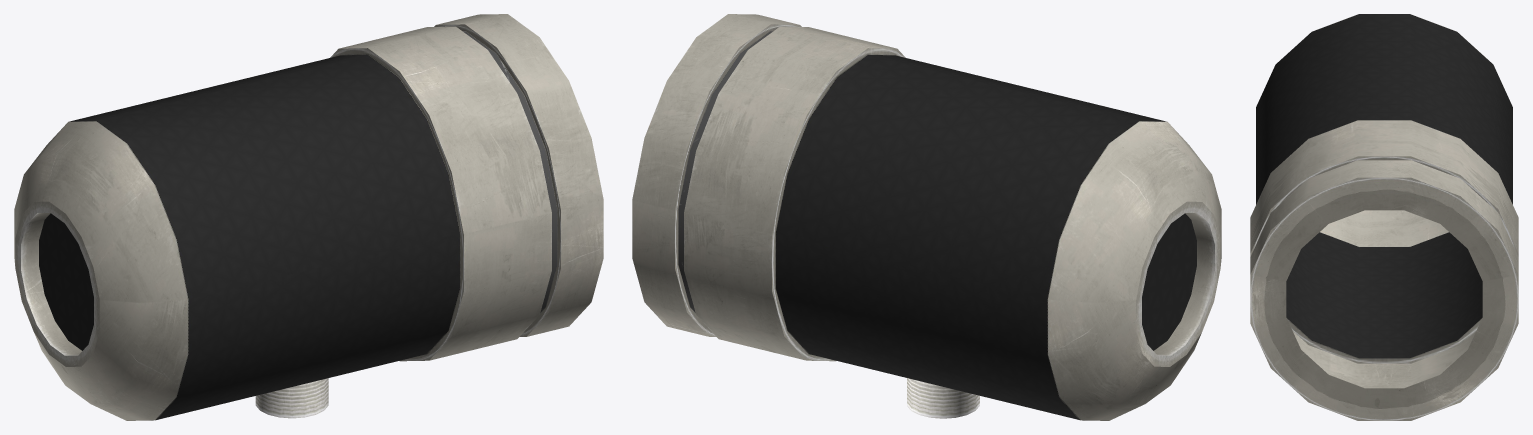
File: pommel_3_c_d.glb
3 renders of one model, left to right at view 1: azimuth 30°, elevation 25°; view 2: azimuth 150°, elevation 25°; view 3: azimuth 270°, elevation 25°, orthographic. The views are drawn at different scales.
Parts seen in each view (by area): view 1: pommel_3_c_d_lod0; view 2: pommel_3_c_d_lod0; view 3: pommel_3_c_d_lod0.
Part boxes in pixels (bbox=[...]): pommel_3_c_d_lod0: bbox=[14, 14, 603, 420]; pommel_3_c_d_lod0: bbox=[632, 14, 1221, 420]; pommel_3_c_d_lod0: bbox=[1250, 14, 1518, 420].
Size of what is drawn, in the model's own units: 0.0481 by 0.0316 by 0.0285.
Materials: 1 (1 with a texture image).
